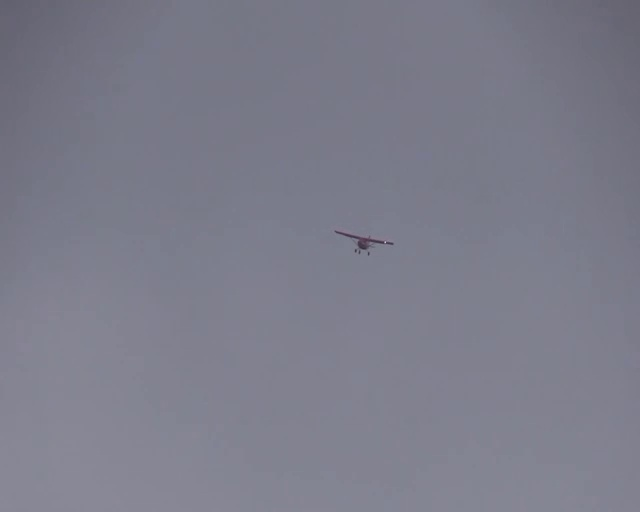AIRPLANE: (333, 228, 394, 255)
